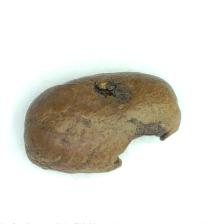NG: (106, 118, 175, 169), (84, 73, 128, 109)
